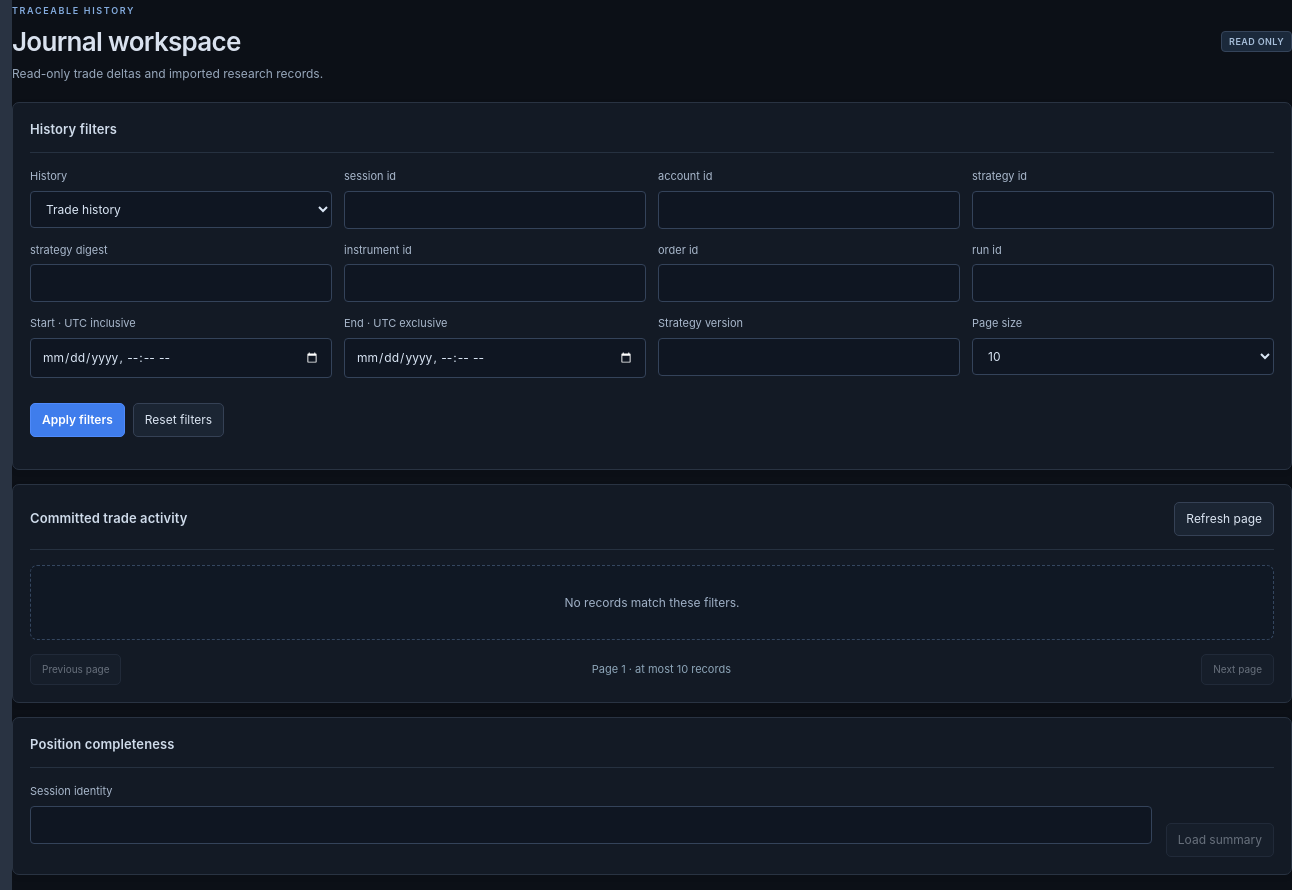
Scenario: journal query and pagination › bounds page size and shows incomplete-position summaries
Type "session:a" into the field labelled "Session identity" at [591, 825], box [30,806,1152,844]
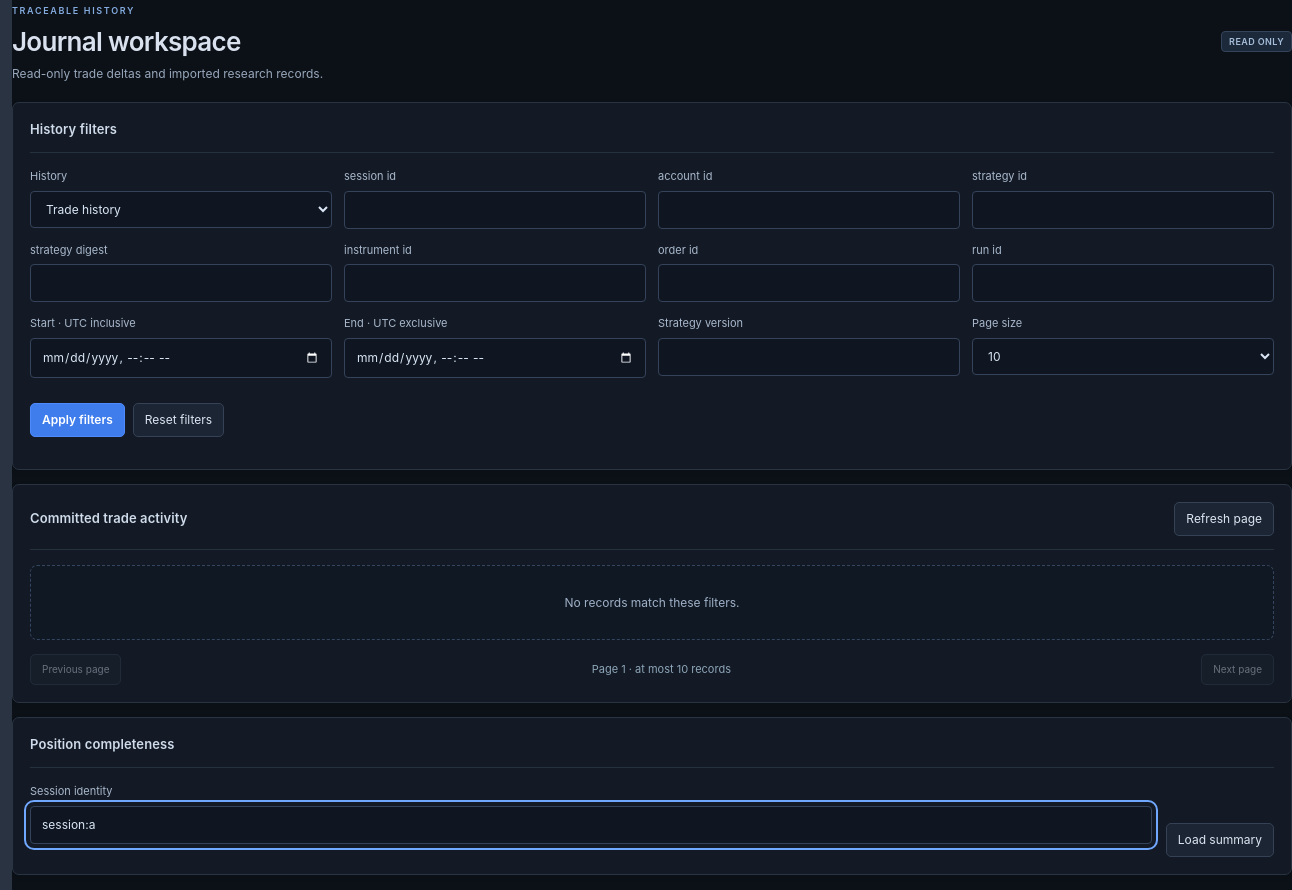
Click the button "Load summary" at [1220, 840], box [1166,823,1274,857]
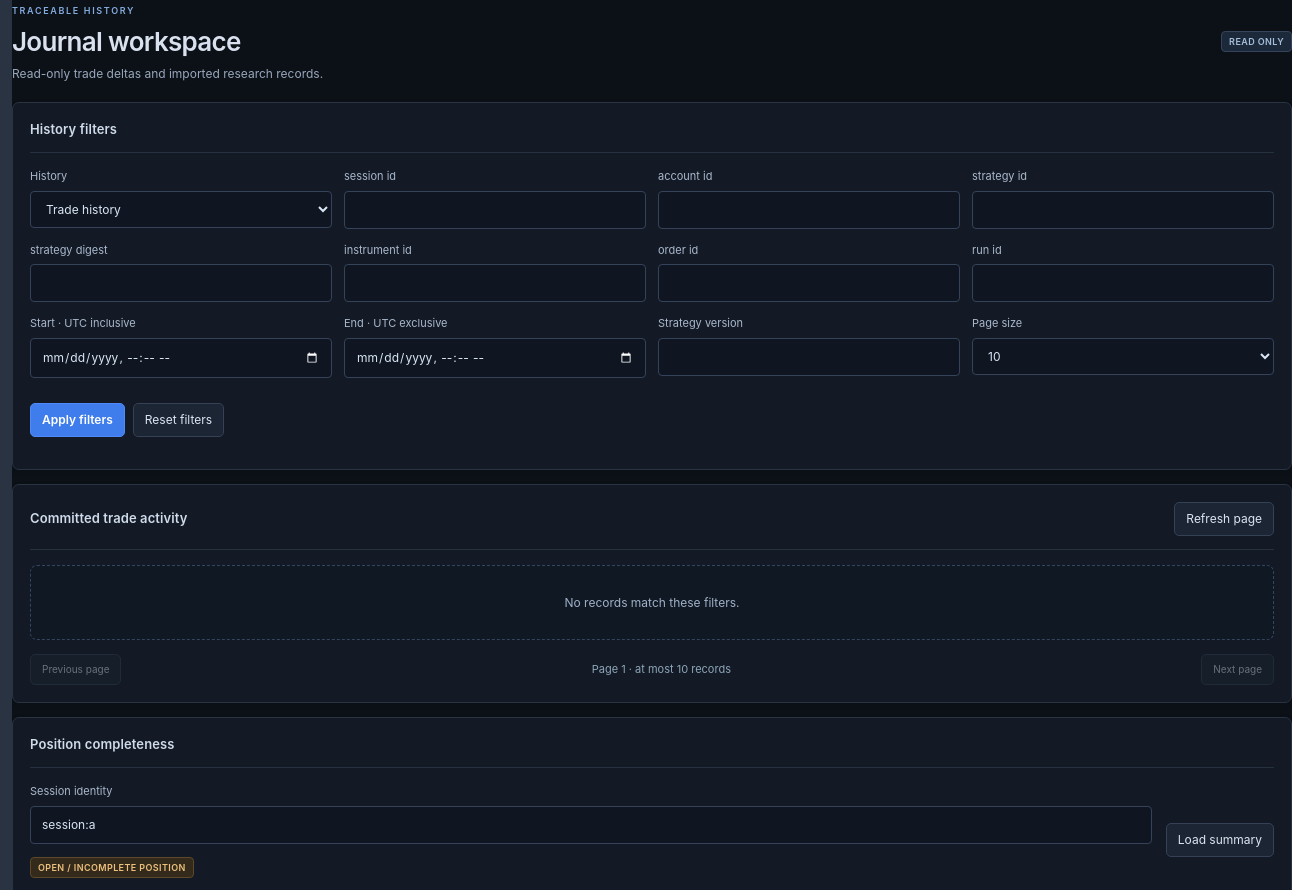
Result: the text "OPEN / INCOMPLETE POSITION" is shown at [30,857,194,878]
